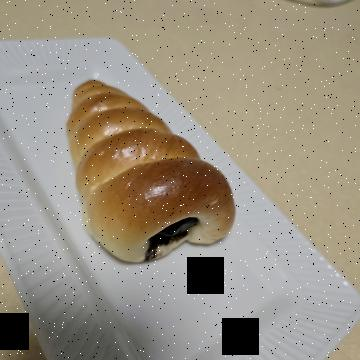cream horn: (53, 121, 275, 304)
